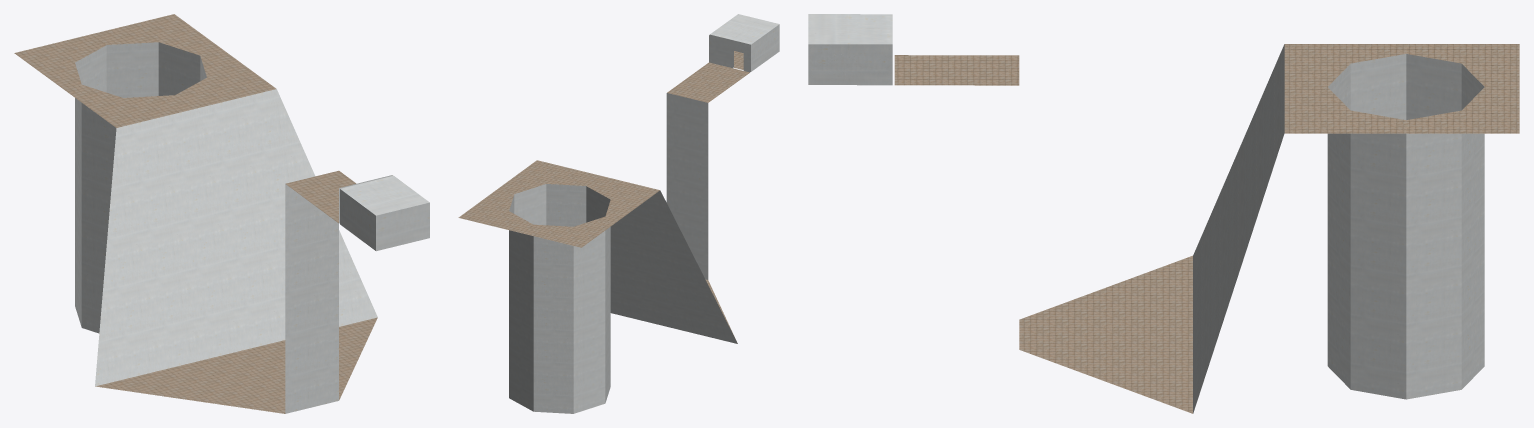
File: debug_level.fbx
The picture shows the model from 3 angles, left to right: view 1: azimuth 30°, elevation 25°; view 2: azimuth 150°, elevation 25°; view 3: azimuth 270°, elevation 25°; orthographic projection. The views are drawn at different scales.
Parts seen in each view (by area): view 1: Trainer; view 2: Trainer; view 3: Trainer.
Part boxes in pixels (x1,y1,x2,y2): Trainer: (14,14,429,413); Trainer: (458,14,779,413); Trainer: (808,14,1519,413).
Size of what is drawn, in the model's own units: 4521 by 4498 by 8574.
